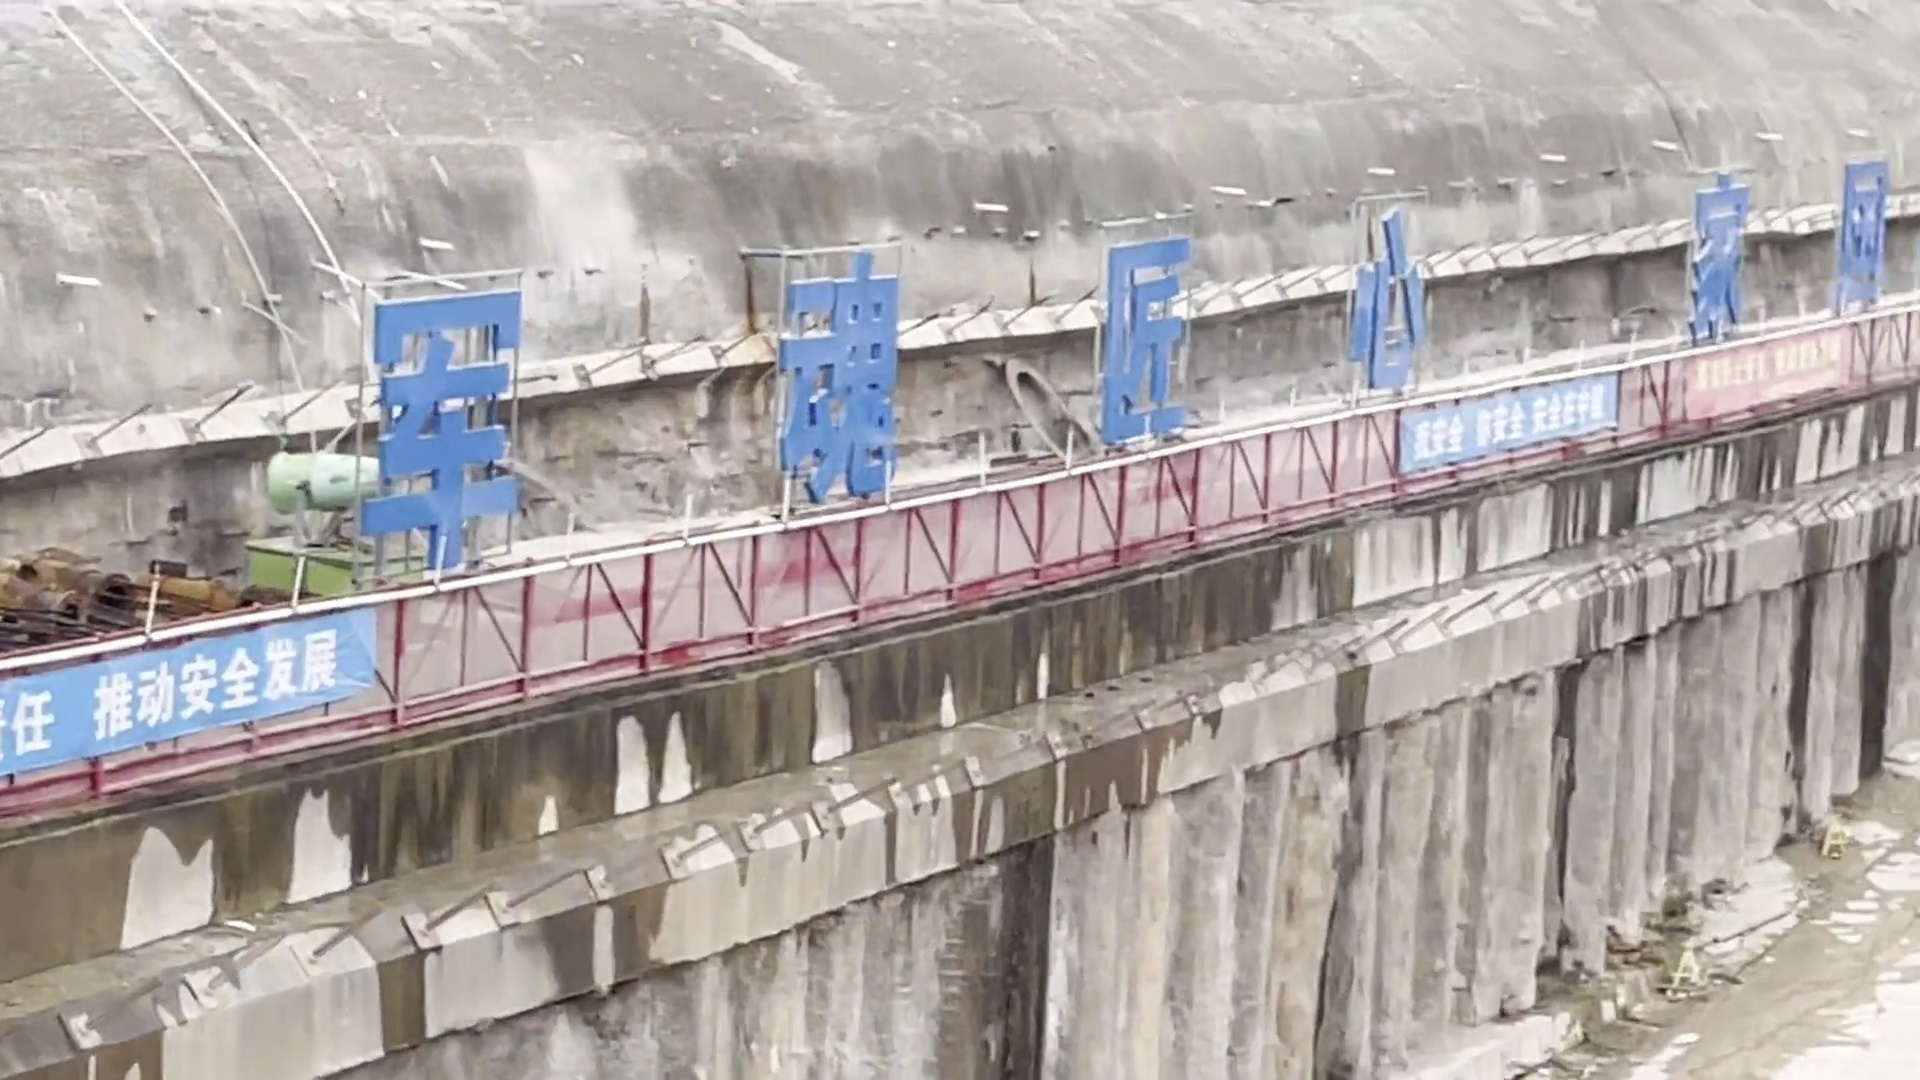fence: (54, 303, 1920, 661)
slogan: (1, 617, 382, 745), (1400, 357, 1642, 495), (1679, 303, 1863, 429)
